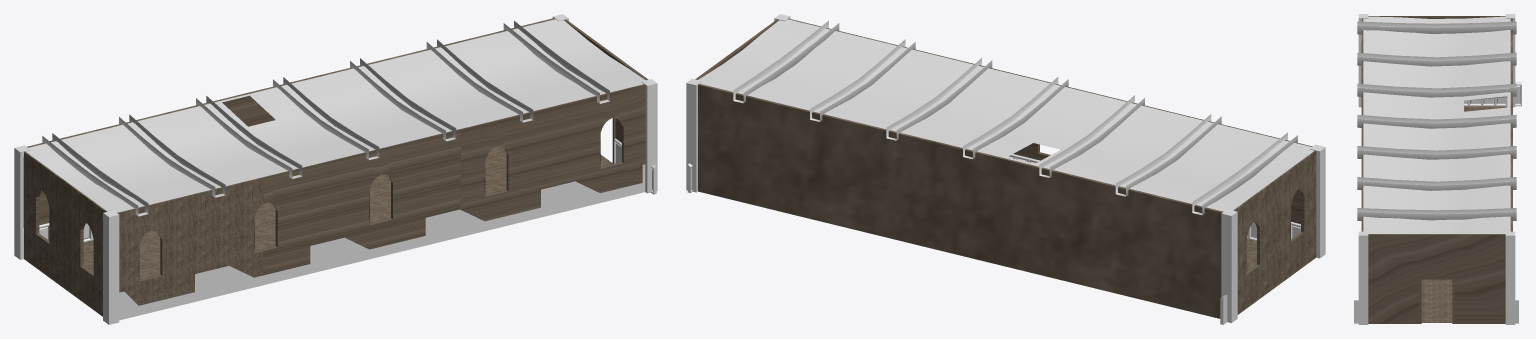
The model's file is mdl_dormitory.fbx.
3 views of the same model, side by side, from view 1: azimuth 30°, elevation 25°; view 2: azimuth 150°, elevation 25°; view 3: azimuth 270°, elevation 25° (orthographic). The views are drawn at different scales.
Visible parts, largest first — view 1: mesh_wall_windows.001, mesh_ceiling.001, Cube.022, mesh_ceiling_, mesh_wall_back.001, Cube.058, mesh_ground.001, mesh_wall_long.001, mesh_wall_door.001; view 2: mesh_wall_long.001, mesh_ceiling.001, mesh_ceiling_, mesh_wall_back.001, Cube.058, mesh_wall_windows.001; view 3: mesh_ceiling.001, mesh_wall_door.001, mesh_ceiling_, Cube.058, mesh_ground.001, Cube.055, mesh_wall_long.001, mesh_wall_windows.001, mesh_wall_back.001.
Boxes of the visible parts, bbox=[...] form: mesh_wall_windows.001: bbox=[117, 84, 645, 305]; mesh_ceiling.001: bbox=[25, 19, 645, 212]; Cube.022: bbox=[119, 164, 645, 320]; mesh_ceiling_: bbox=[42, 20, 609, 216]; mesh_wall_back.001: bbox=[23, 151, 107, 316]; Cube.058: bbox=[14, 14, 657, 324]; mesh_ground.001: bbox=[83, 146, 612, 279]; mesh_wall_long.001: bbox=[27, 18, 555, 239]; mesh_wall_door.001: bbox=[564, 19, 648, 163]; mesh_wall_long.001: bbox=[698, 84, 1223, 318]; mesh_ceiling.001: bbox=[698, 19, 1314, 211]; mesh_ceiling_: bbox=[733, 20, 1297, 215]; mesh_wall_back.001: bbox=[1233, 150, 1316, 314]; Cube.058: bbox=[686, 14, 1325, 322]; mesh_wall_windows.001: bbox=[788, 18, 1312, 238]; mesh_ceiling.001: bbox=[1363, 16, 1510, 233]; mesh_wall_door.001: bbox=[1368, 234, 1505, 323]; mesh_ceiling_: bbox=[1357, 21, 1516, 220]; Cube.058: bbox=[1358, 14, 1515, 324]; mesh_ground.001: bbox=[1421, 106, 1506, 322]; Cube.055: bbox=[1464, 82, 1521, 106]; mesh_wall_long.001: bbox=[1510, 18, 1512, 231]; mesh_wall_windows.001: bbox=[1361, 18, 1363, 231]; mesh_wall_back.001: bbox=[1368, 16, 1505, 18].
Size of the model in its own units: 21.4 by 4.32 by 6.85.
